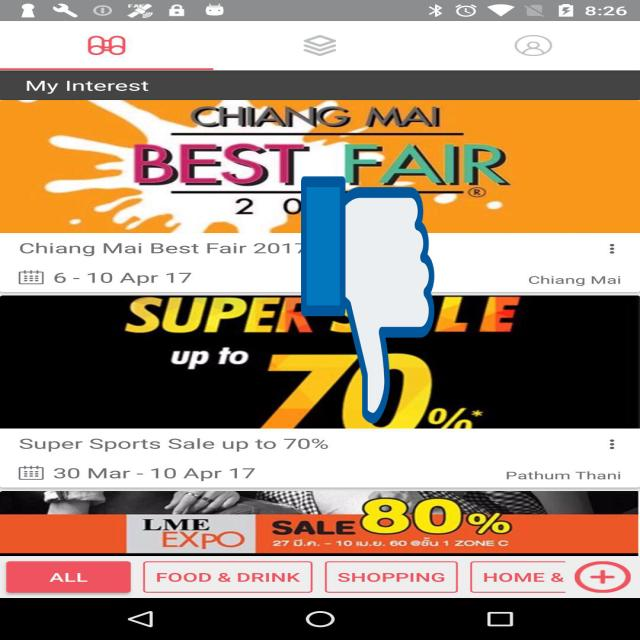obstruction: (301, 171, 434, 429)
